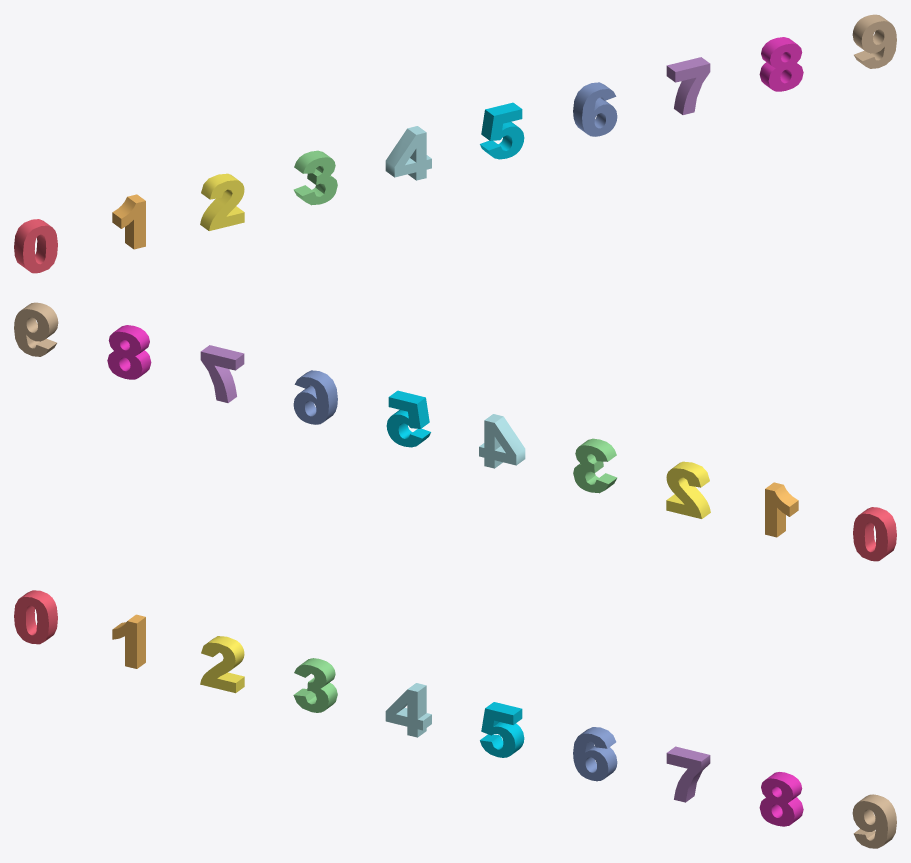
Rendered from numbers.fbx.
The picture shows the model from 3 angles, top to bottom: view 1: azimuth 30°, elevation 25°; view 2: azimuth 150°, elevation 25°; view 3: azimuth 330°, elevation 25°; orthographic projection.
Parts seen in each view (by area): view 1: Object_6, Object_8, Object_3, Object_4, Object_7, Object_2, Object_10, Object_9, Object_11, Object_5; view 2: Object_6, Object_8, Object_3, Object_4, Object_7, Object_2, Object_10, Object_9, Object_11, Object_5; view 3: Object_8, Object_3, Object_4, Object_2, Object_7, Object_6, Object_9, Object_10, Object_11, Object_5.
Part boxes in pixels (x1,y1,x2,y2): Object_6: [200, 173, 244, 230]; Object_8: [480, 102, 524, 159]; Object_3: [759, 37, 803, 91]; Object_4: [14, 219, 57, 273]; Object_7: [573, 82, 617, 136]; Object_2: [852, 14, 896, 68]; Object_10: [385, 126, 431, 180]; Object_9: [293, 150, 337, 205]; Object_11: [666, 57, 710, 114]; Object_5: [112, 194, 145, 249]; Object_6: [666, 461, 710, 518]; Object_8: [386, 390, 430, 447]; Object_3: [107, 325, 151, 379]; Object_4: [853, 507, 896, 561]; Object_7: [293, 370, 337, 424]; Object_2: [14, 302, 58, 356]; Object_10: [479, 414, 525, 468]; Object_9: [573, 438, 617, 493]; Object_11: [200, 345, 244, 402]; Object_5: [765, 482, 798, 537]; Object_8: [480, 702, 524, 757]; Object_3: [759, 772, 803, 826]; Object_4: [14, 590, 57, 644]; Object_2: [852, 794, 896, 848]; Object_7: [573, 727, 617, 781]; Object_6: [200, 636, 244, 693]; Object_9: [293, 658, 337, 712]; Object_10: [385, 683, 431, 737]; Object_11: [666, 746, 710, 802]; Object_5: [112, 614, 145, 668].
Bounding box in the file's own units: 22508 × 1144 × 400.
